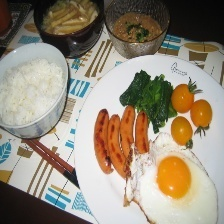rice: (1, 57, 65, 124)
